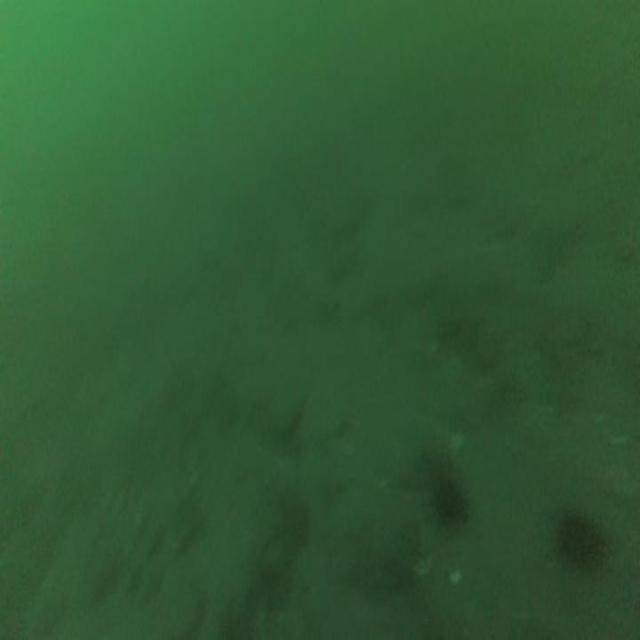echinus: (553, 499, 609, 578), (427, 458, 470, 538)
